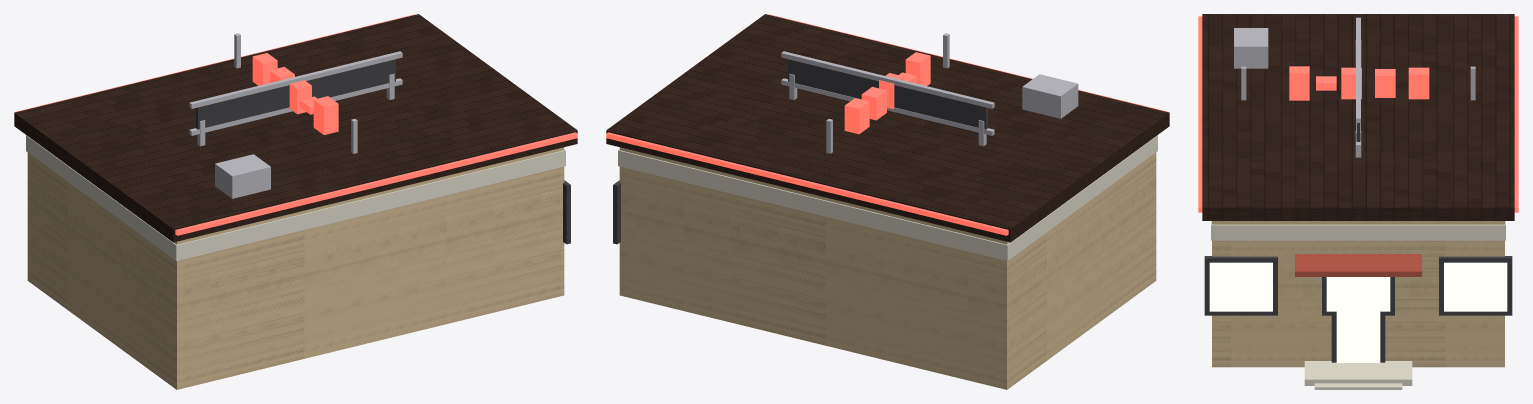
The model's file is diner.glb.
3 renders of one model, left to right at view 1: azimuth 30°, elevation 25°; view 2: azimuth 150°, elevation 25°; view 3: azimuth 270°, elevation 25°, orthographic.
Parts seen in each view (by area): view 1: diner; view 2: diner; view 3: diner.
Boxes of the visible parts, bbox=[...] form: diner: bbox=[14, 14, 577, 389]; diner: bbox=[606, 14, 1169, 389]; diner: bbox=[1198, 14, 1518, 389].
Size of the model in its own units: 10.3 by 4.68 by 6.56.
8 materials, 2 textured.
